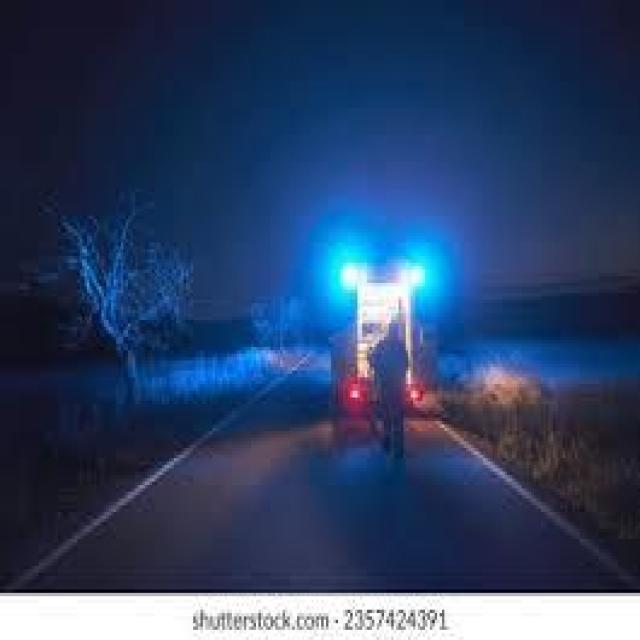ambulance: (336, 249, 438, 324)
